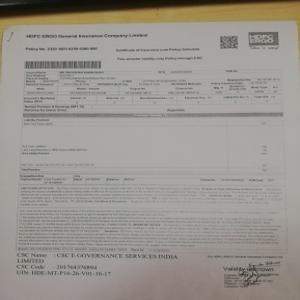image: (247, 32, 278, 44)
table: (21, 112, 287, 186), (23, 70, 281, 111)
text: (16, 215, 282, 248), (18, 186, 284, 208), (14, 250, 179, 279), (25, 32, 151, 41), (111, 45, 204, 52)
